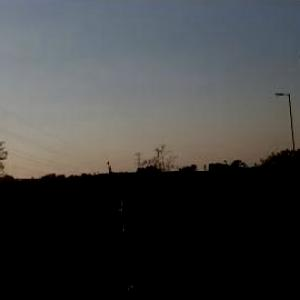follow: (96, 165, 182, 299)
